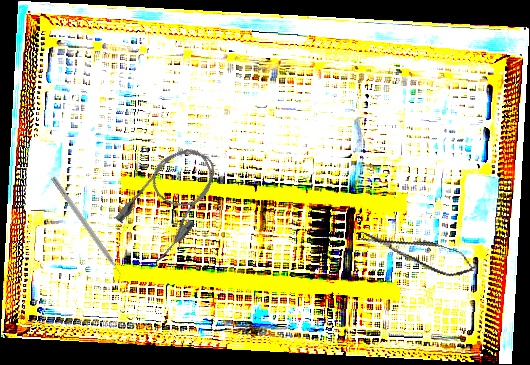Cannula: (109, 134, 233, 267)
Chopper: (44, 175, 128, 287)
Micro Scissor: (356, 219, 479, 284)
